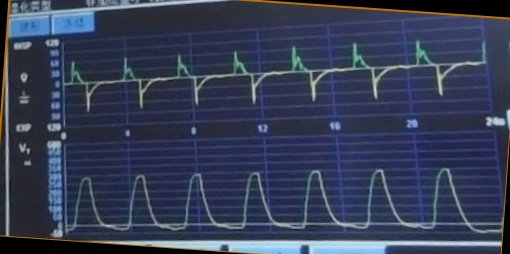Accumulation Flow: (66, 39, 482, 112)
Volume: (68, 165, 496, 236)
